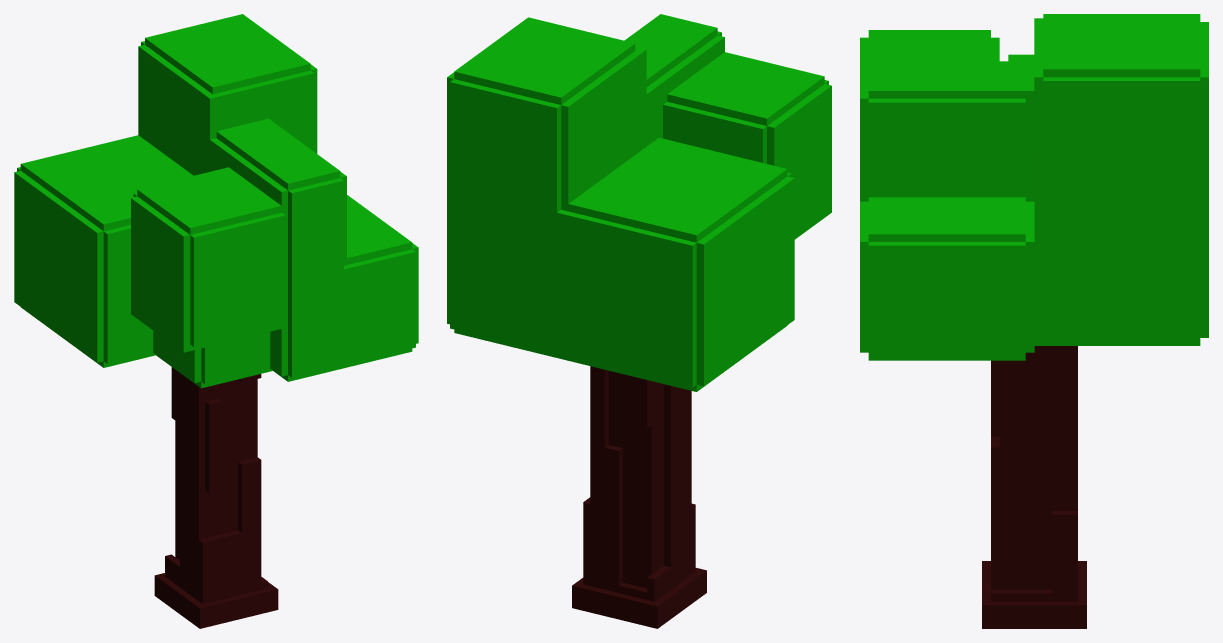
The model's file is Tree_0_4.fbx.
The picture shows the model from 3 angles, left to right: view 1: azimuth 30°, elevation 25°; view 2: azimuth 150°, elevation 25°; view 3: azimuth 270°, elevation 25°; orthographic projection. The views are drawn at different scales.
Visible parts, largest first — view 1: Tree_0_4; view 2: Tree_0_4; view 3: Tree_0_4.
Part boxes in pixels (x1=…): Tree_0_4: x1=14, y1=14, x2=418, y2=628; Tree_0_4: x1=447, y1=14, x2=831, y2=628; Tree_0_4: x1=860, y1=14, x2=1208, y2=628.
Size of the model in its own units: 4000 by 7500 by 4000.
